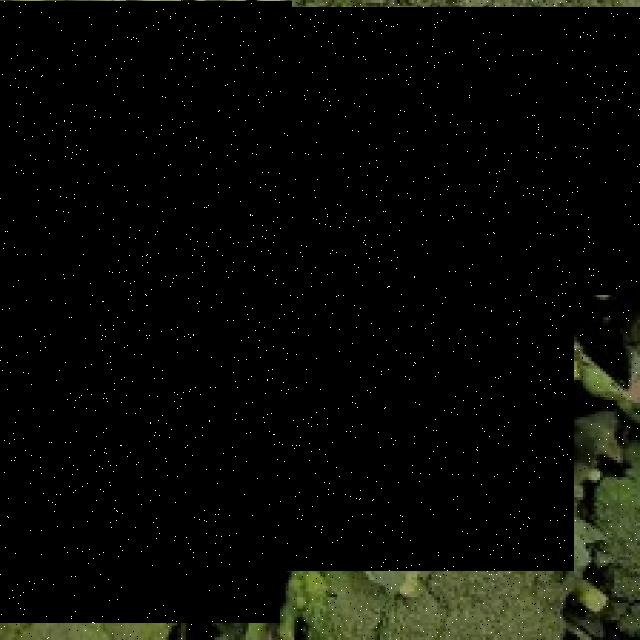Broccoli: (260, 125, 575, 571), (184, 8, 640, 296), (0, 1, 292, 402), (0, 347, 280, 623)
